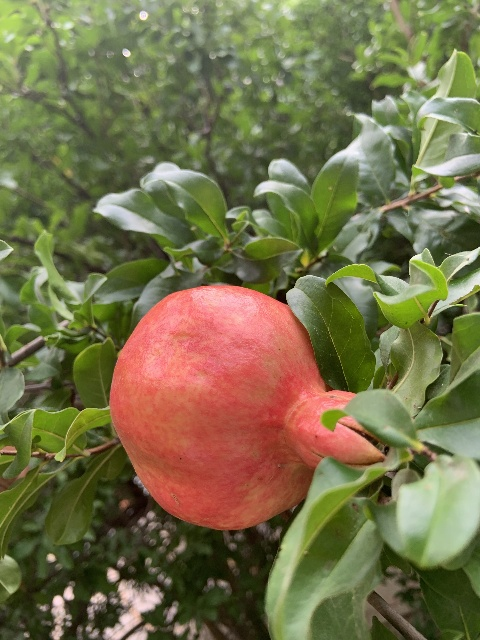ripe: (109, 283, 384, 529)
